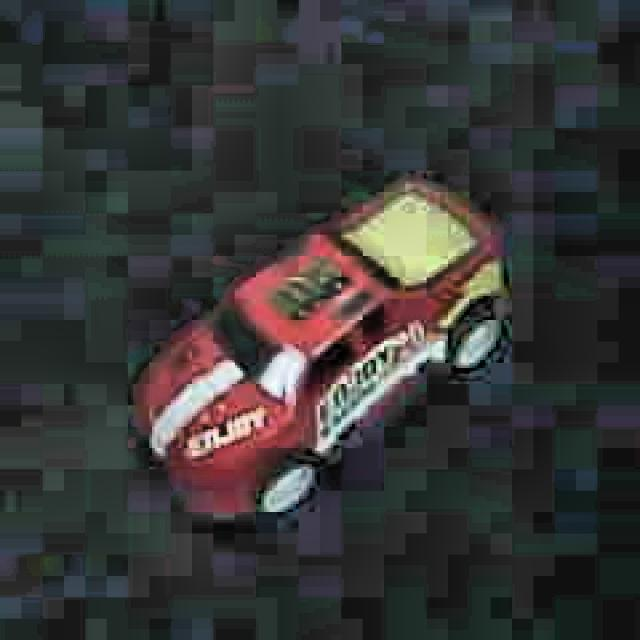car: (133, 174, 507, 518)
